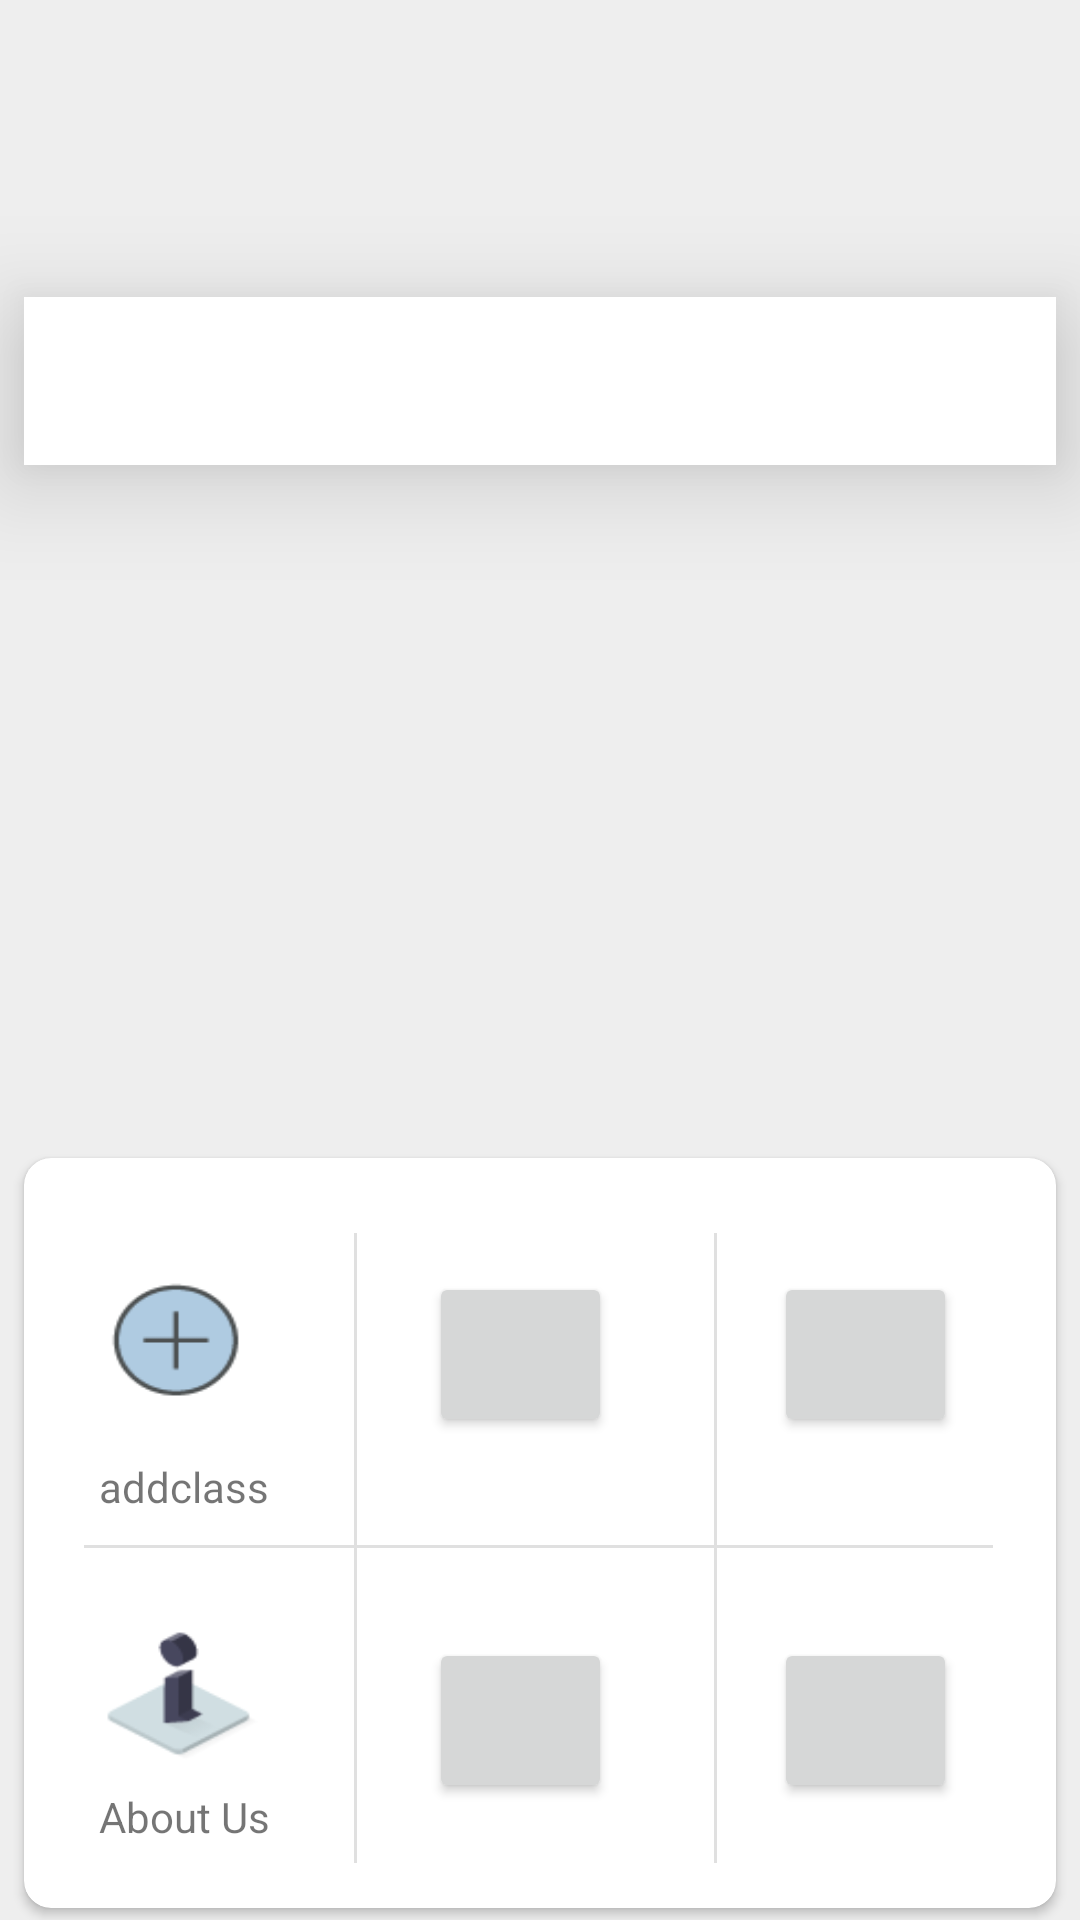

Screen size 1080px×1920px. Icon name, then its box in pixels as box=[x1, y1, x2, y2]:
info: box=[108, 1632, 250, 1755]
